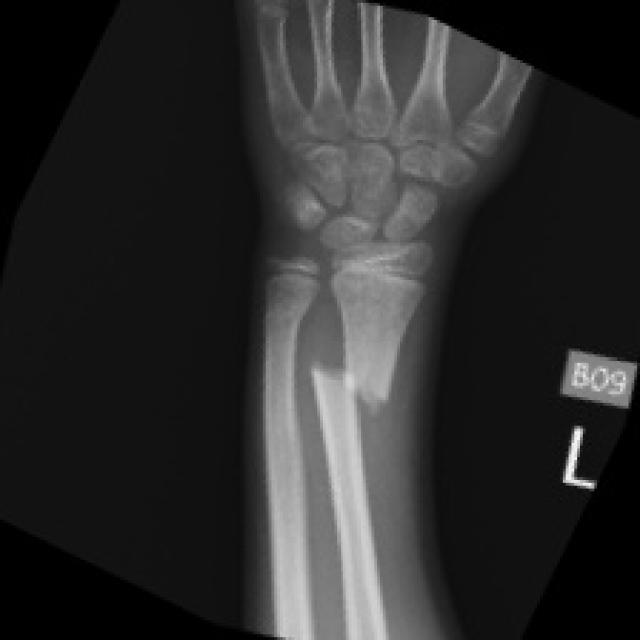fracture: (300, 333, 421, 447)
